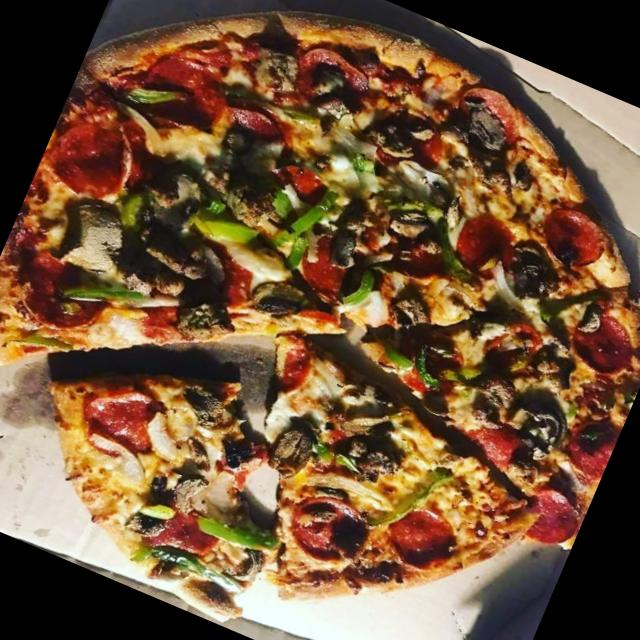pepperoni: (38, 103, 150, 217), (130, 44, 244, 152), (6, 243, 114, 341), (270, 39, 378, 132), (283, 484, 379, 576), (77, 376, 171, 466), (134, 492, 224, 570), (442, 79, 533, 153), (564, 298, 640, 381), (532, 192, 612, 270), (450, 201, 526, 279), (300, 234, 378, 304), (393, 502, 465, 572), (556, 406, 618, 484), (511, 478, 578, 548), (464, 408, 525, 468), (266, 332, 326, 392), (214, 252, 266, 308), (228, 105, 286, 149)
peppers: (406, 200, 511, 298), (254, 168, 334, 258), (282, 184, 352, 284), (188, 499, 280, 572), (393, 323, 465, 395), (388, 449, 439, 532), (72, 263, 148, 318), (192, 201, 267, 256), (334, 146, 396, 208), (126, 74, 168, 114)
pizza: (0, 10, 640, 627)
